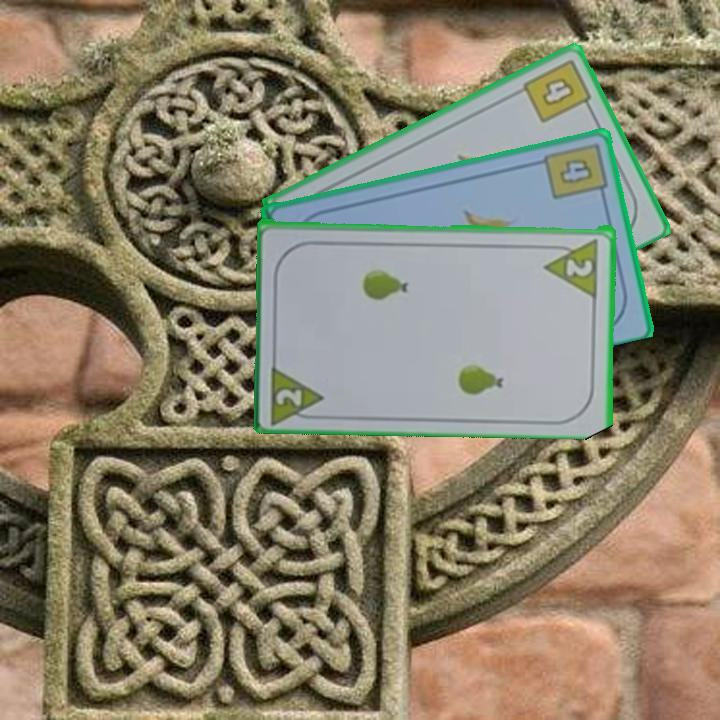2p: (267, 358, 328, 424), (563, 255, 596, 279)
4b: (519, 55, 597, 126), (540, 139, 610, 202)
